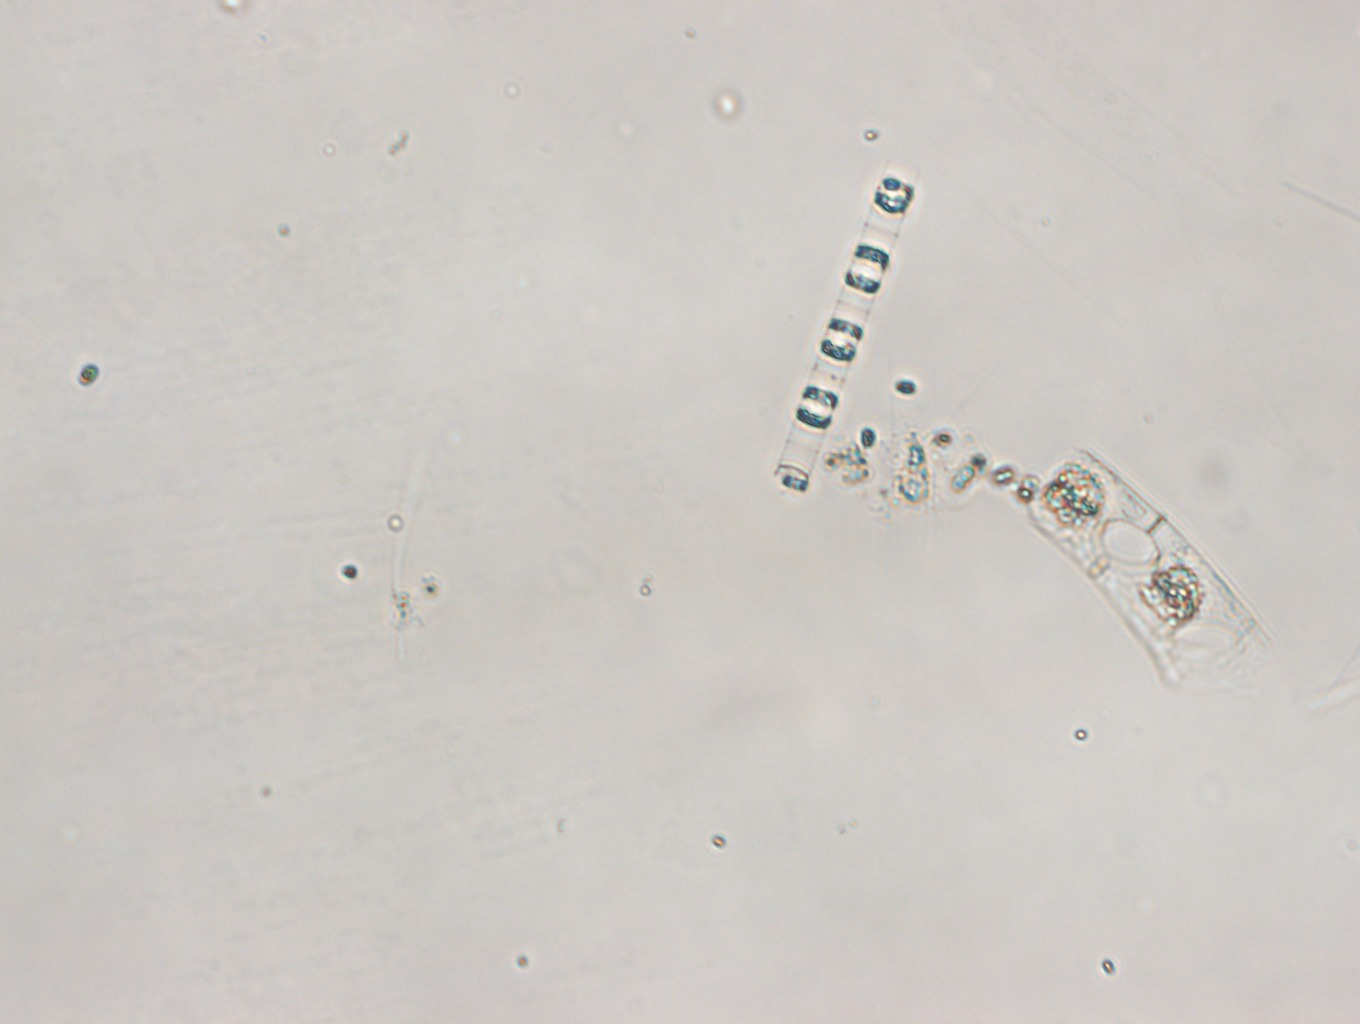eucampia: (1041, 459, 1266, 680)
skeletonema: (765, 163, 919, 500)
